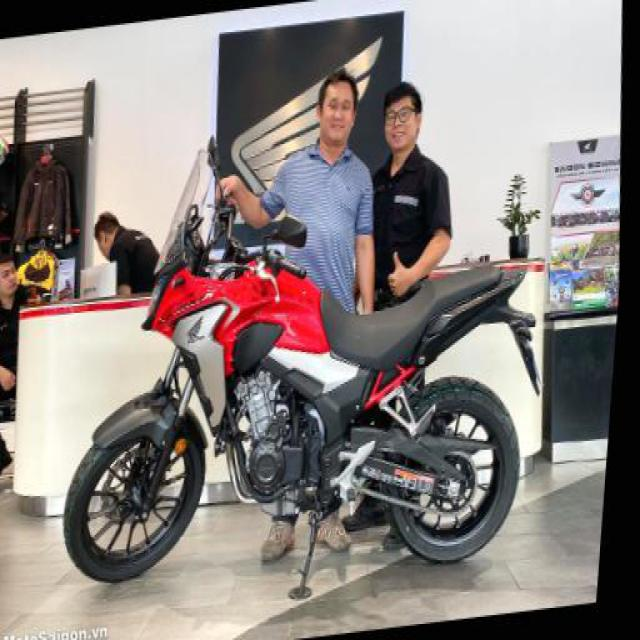CB500X: (41, 102, 555, 614)
